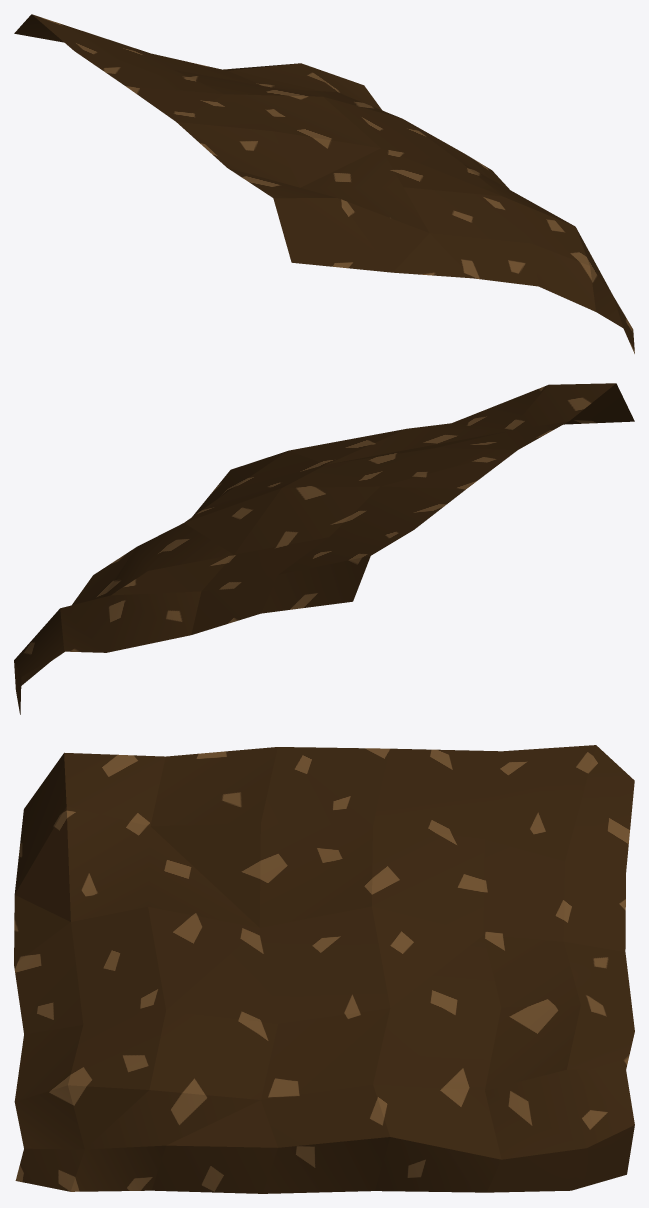
Rendered from SM_bordure.FBX.
3 views of the same model, one above another, from view 1: azimuth 30°, elevation 25°; view 2: azimuth 150°, elevation 25°; view 3: azimuth 270°, elevation 25° (orthographic). The views are drawn at different scales.
Parts seen in each view (by area): view 1: bordure; view 2: bordure; view 3: bordure.
Boxes of the visible parts, x1,y1,x2,y2 form: bordure: [14, 14, 634, 353]; bordure: [14, 383, 634, 714]; bordure: [14, 745, 634, 1193].
Size of the model in its own units: 1251 by 750 by 1665.
